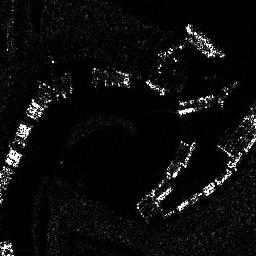ship: (185, 21, 226, 58), (176, 102, 210, 117), (145, 80, 167, 95)
